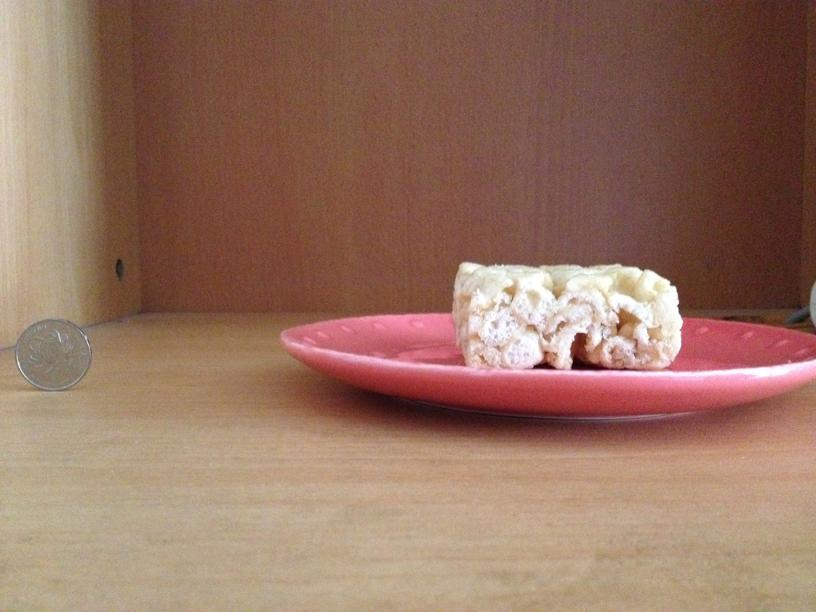coin: (15, 319, 90, 389)
sachima: (448, 258, 681, 368)
